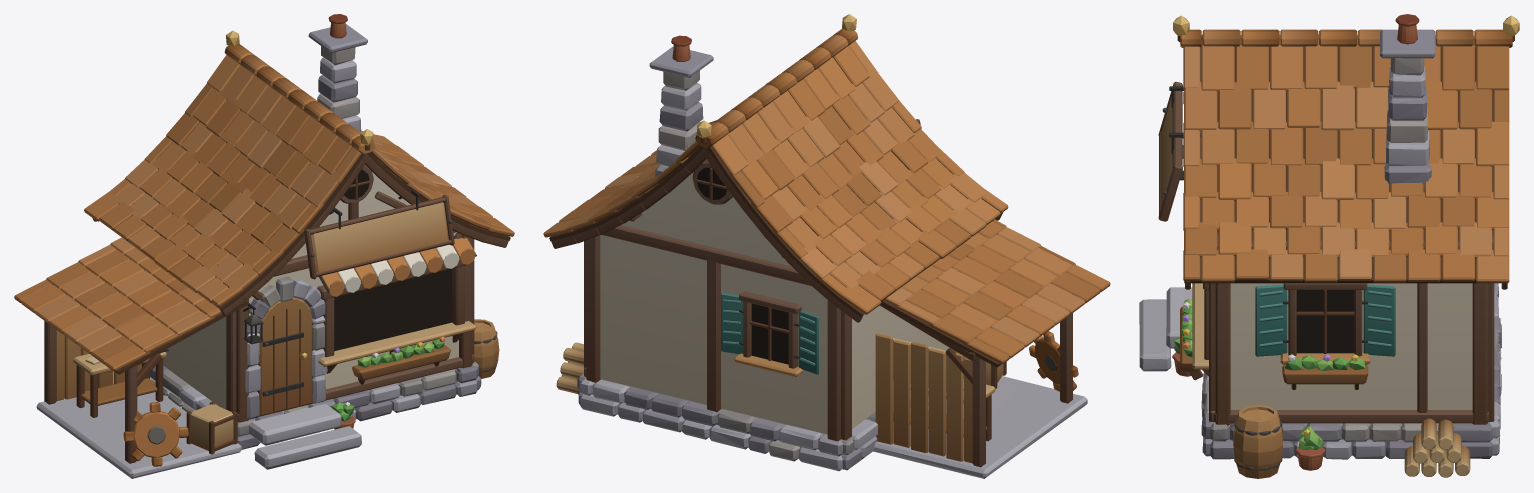
File: taller.glb
3 views of the same model, side by side, from view 1: azimuth 30°, elevation 25°; view 2: azimuth 150°, elevation 25°; view 3: azimuth 270°, elevation 25° (orthographic). The views are drawn at different scales.
Visible parts, largest first — view 1: edificio; view 2: edificio; view 3: edificio.
Boxes of the visible parts, x1,y1,x2,y2 form: edificio: (14, 14, 514, 478); edificio: (543, 14, 1110, 478); edificio: (1139, 14, 1519, 478).
Size of the model in its own units: 7.76 by 5.98 by 5.09.
